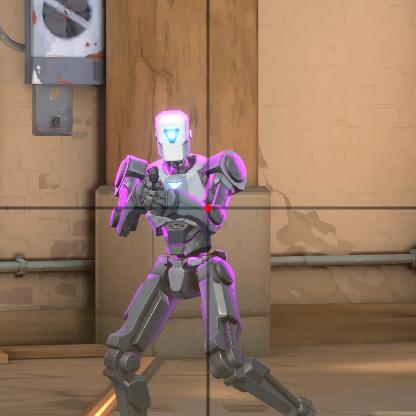enemyBody: (161, 164, 205, 219)
enemyHead: (162, 124, 191, 152)
